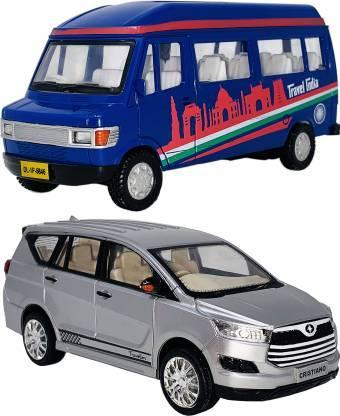car: (2, 0, 340, 215), (1, 220, 340, 416)
